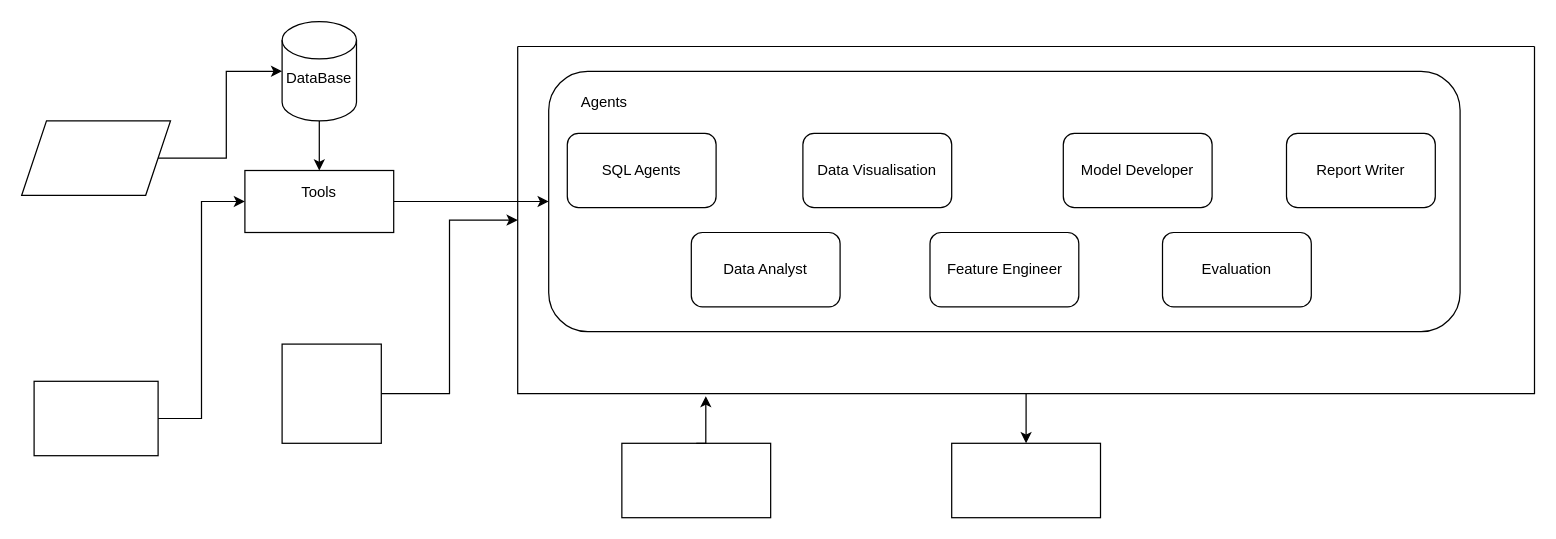
The diagram is 1556 pixels wide and 539 high, and some of its shapes have lost their labels. Here are the shapes that lost their labels. From the top down, the box of each, then its label:
(20, 120, 170, 195): Data
(281, 343, 381, 443): LLM (Grow)
(33, 380, 158, 456): LangChain
(621, 442, 771, 518): User Query
(950, 442, 1100, 518): Response
